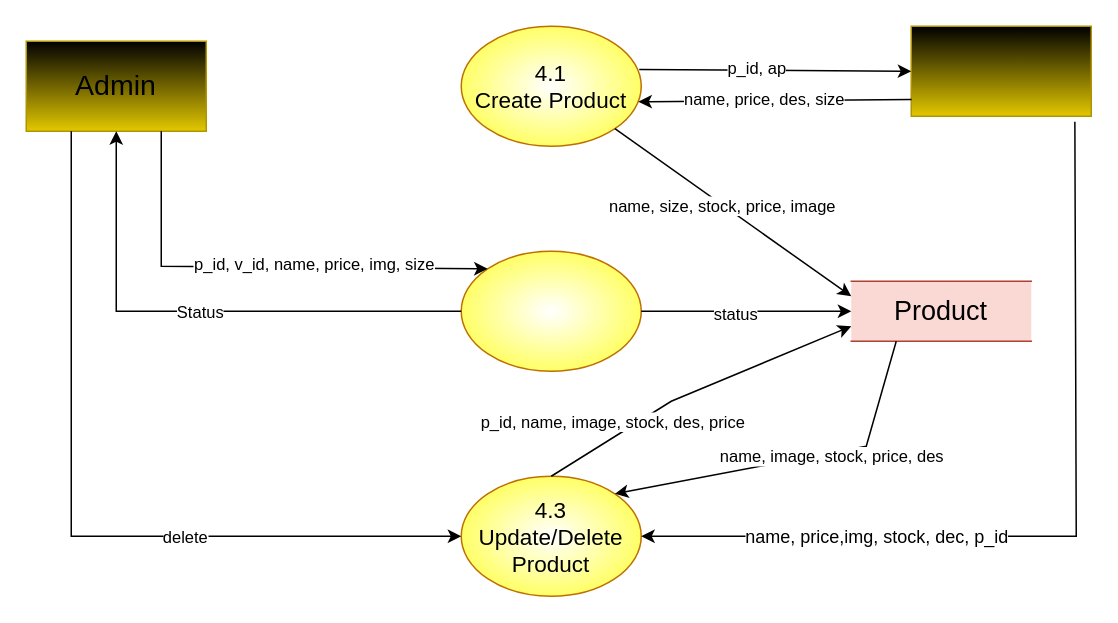
Image size: 1118x623. Some labels were removed from this diagram. Here are the shapes that lost their labels. From the top down, the centre of each, then its label:
the point at 1000,70: Vendor
the point at 550,310: 4.2 Approve Product
